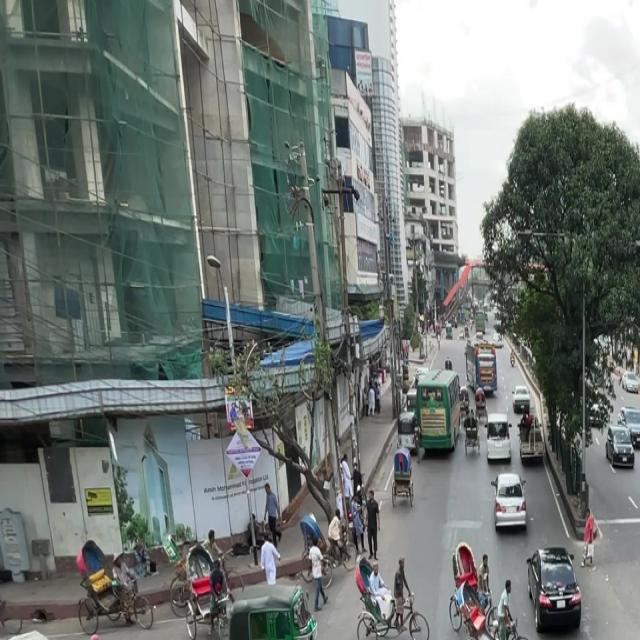bus: (417, 358, 467, 466), (460, 332, 503, 404)
car: (522, 539, 590, 639), (485, 465, 534, 540), (602, 420, 638, 473), (483, 406, 516, 454)
rickshaw: (222, 579, 328, 640)
